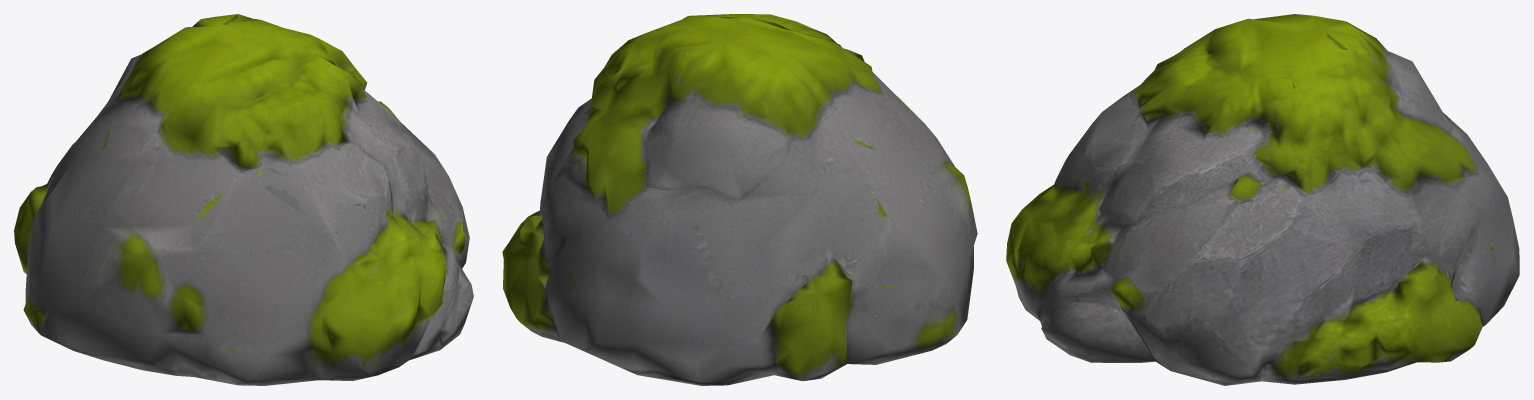
File: boulder.glb
The picture shows the model from 3 angles, left to right: view 1: azimuth 30°, elevation 25°; view 2: azimuth 150°, elevation 25°; view 3: azimuth 270°, elevation 25°; orthographic projection. The views are drawn at different scales.
Size of the model in its own units: 1.74 by 1.07 by 1.9.
Materials: 1 (1 with a texture image).
